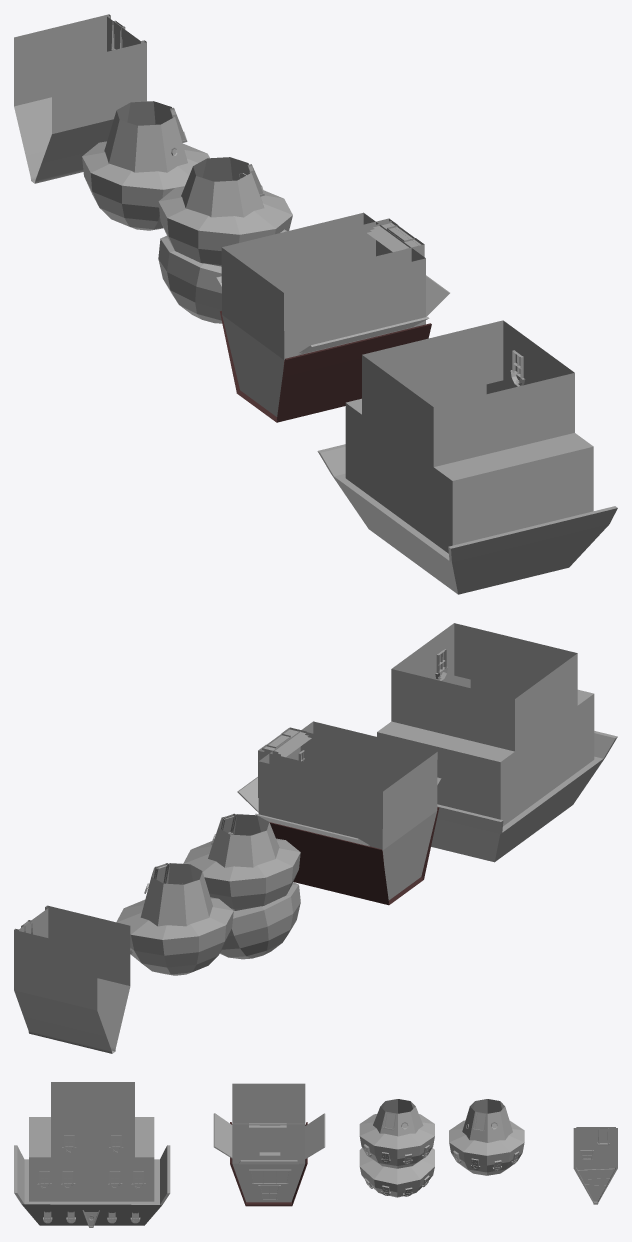
The model's file is Buildings.fbx.
The picture shows the model from 3 angles, top to bottom: view 1: azimuth 30°, elevation 25°; view 2: azimuth 150°, elevation 25°; view 3: azimuth 270°, elevation 25°; orthographic projection. The views are drawn at different scales.
Visible parts, largest first — view 1: pCube62, polySurface128, pCube61, polySurface5, polySurface8; view 2: pCube62, polySurface128, pCube61, polySurface5, polySurface8; view 3: pCube62, polySurface128, polySurface5, polySurface8, pCube61, pCube73.
Part boxes in pixels (box(x1,y1,x2,y2)): pCube62: box(317, 320, 617, 594); polySurface128: box(216, 212, 449, 422); pCube61: box(14, 14, 146, 183); polySurface5: box(158, 157, 292, 323); polySurface8: box(82, 101, 209, 230); pCube62: box(377, 623, 617, 862); polySurface128: box(237, 721, 441, 905); pCube61: box(14, 905, 130, 1053); polySurface5: box(183, 813, 300, 959); polySurface8: box(116, 863, 233, 975); pCube62: box(14, 1082, 170, 1227); polySurface128: box(213, 1083, 325, 1206); polySurface5: box(359, 1099, 434, 1197); polySurface8: box(449, 1099, 524, 1175); pCube61: box(573, 1127, 617, 1204); pCube73: box(578, 1168, 614, 1199).
Size of the model in its own units: 2.78 by 2.53 by 12.85.
